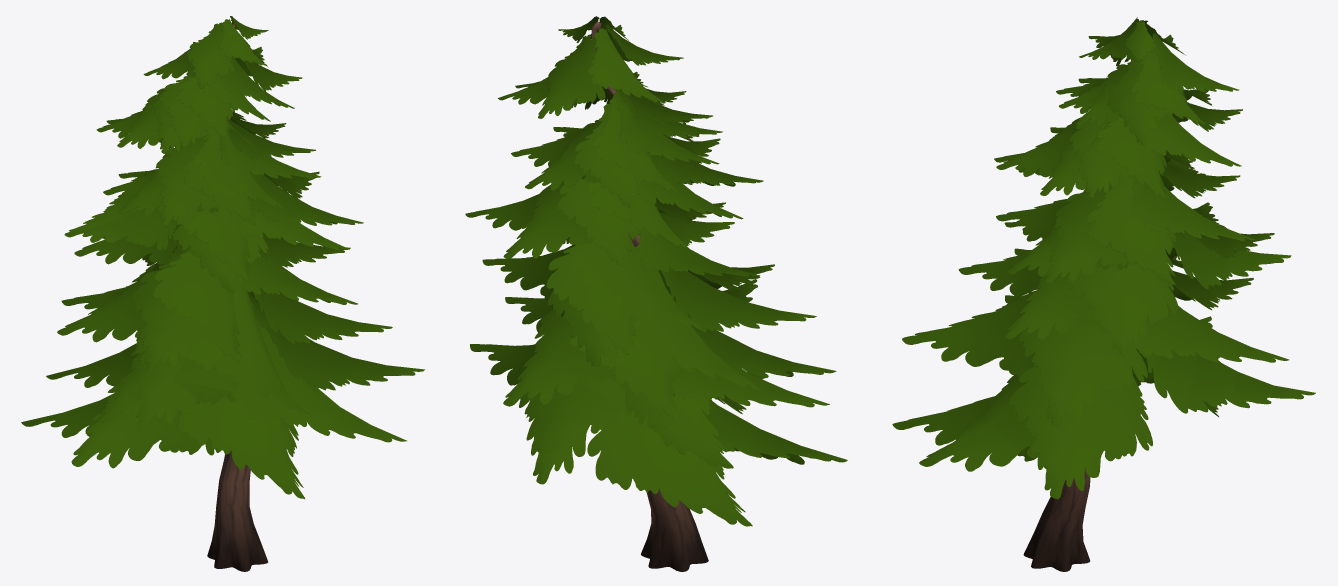
Rendered from Pine_5.gltf.
The picture shows the model from 3 angles, left to right: view 1: azimuth 30°, elevation 25°; view 2: azimuth 150°, elevation 25°; view 3: azimuth 270°, elevation 25°; orthographic projection. The views are drawn at different scales.
Visible parts, largest first — view 1: Pine_5; view 2: Pine_5; view 3: Pine_5.
Part boxes in pixels (left/top/right/bottom): Pine_5: left=21, top=16, right=424, bottom=571; Pine_5: left=465, top=16, right=847, bottom=571; Pine_5: left=892, top=17, right=1315, bottom=571.
Bounding box in the file's own units: 6.42 × 8.72 × 6.22.
2 materials, 2 textured.
